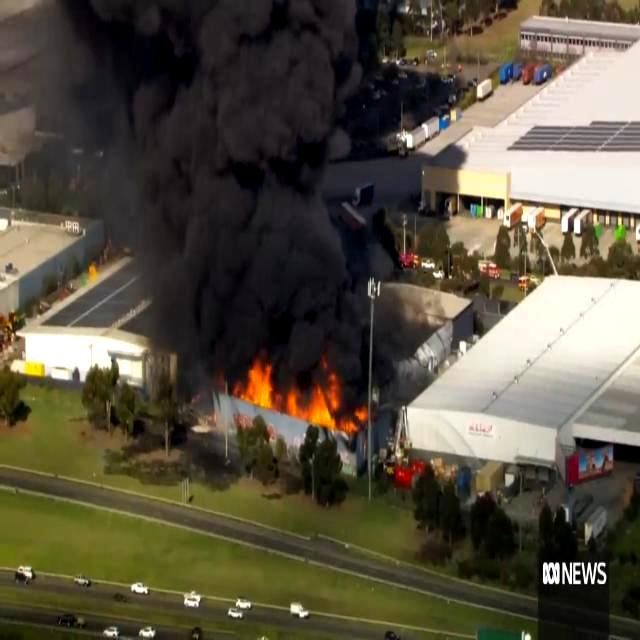fire: (290, 375, 370, 433), (240, 356, 276, 408)
